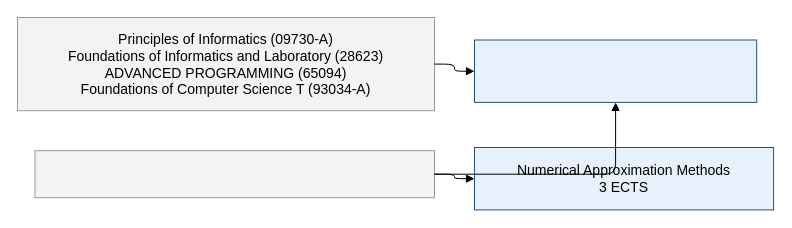
Image size: 792x228. Some labels were removed from this diagram. Each missing label, with the centre of its shape:
"Foundations of Informatics T (29227-A, 29227-B)" goes at point 234,174.
"Numerical Methods Foundations 3 ECTS" goes at point 615,70.
